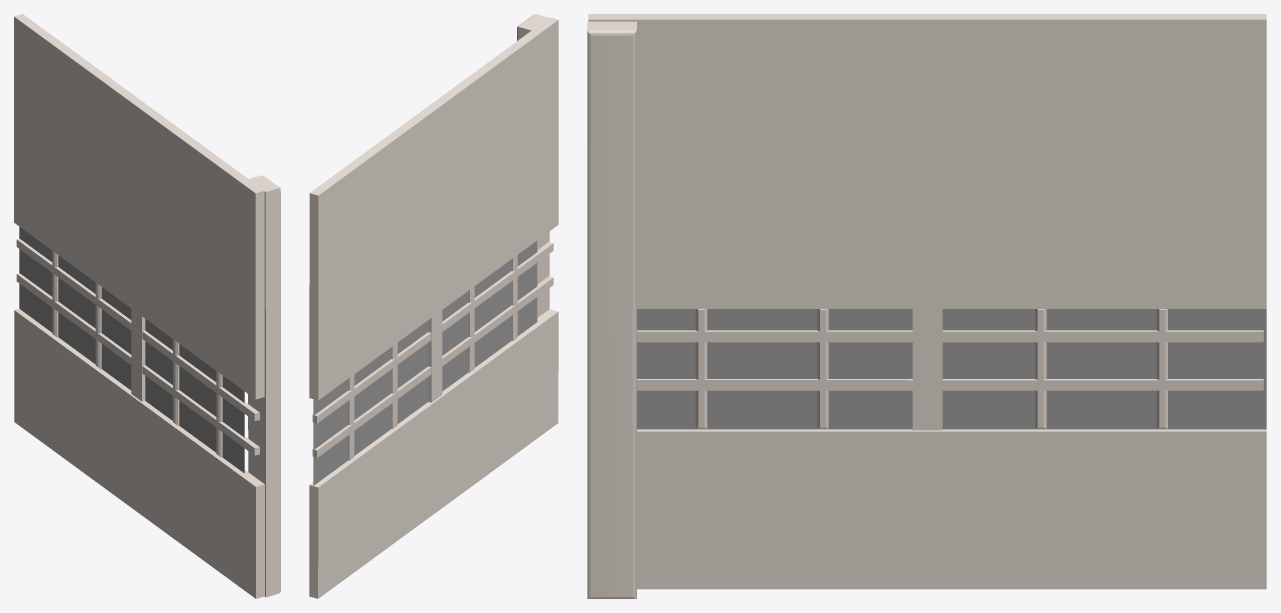
Rendered from Wall_Warehouse.fbx.
The picture shows the model from 3 angles, left to right: view 1: azimuth 30°, elevation 25°; view 2: azimuth 150°, elevation 25°; view 3: azimuth 270°, elevation 25°; orthographic projection. The views are drawn at different scales.
Parts seen in each view (by area): view 1: Up, Bottom, Window_glass, Window_bar, Up1; view 2: Up, Bottom, Window_glass, Window_bar, Up1; view 3: Up, Bottom, Window_glass, Up1, Window_bar.
Part boxes in pixels (left/top/right/bottom): Up: left=14, top=14, right=264, bottom=399; Bottom: left=14, top=308, right=264, bottom=598; Window_glass: left=19, top=227, right=244, bottom=473; Window_bar: left=16, top=239, right=259, bottom=457; Up1: left=248, top=175, right=280, bottom=597; Up: left=309, top=17, right=558, bottom=400; Bottom: left=309, top=309, right=558, bottom=598; Window_glass: left=313, top=241, right=537, bottom=485; Window_bar: left=312, top=242, right=553, bottom=460; Up1: left=517, top=14, right=549, bottom=317; Up: left=588, top=14, right=1266, bottom=308; Bottom: left=637, top=429, right=1266, bottom=589; Window_glass: left=637, top=309, right=1266, bottom=429; Up1: left=587, top=21, right=636, bottom=598; Window_bar: left=637, top=309, right=1263, bottom=430.
Size of the model in its own units: 1.44 by 21.35 by 23.05.
2 materials, 1 textured.
